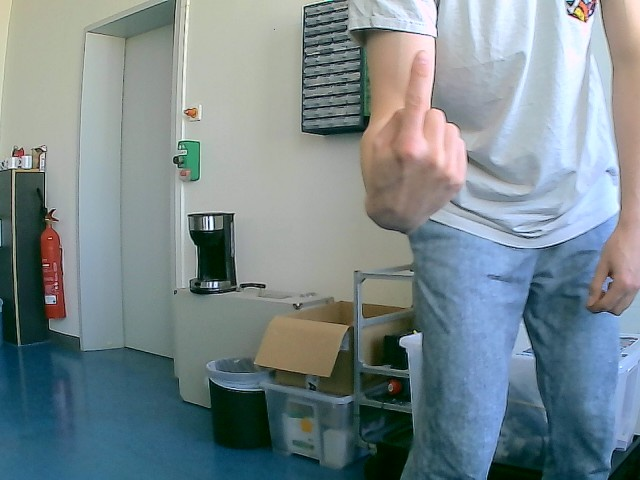no_gesture: (586, 220, 640, 321)
up: (358, 49, 469, 235)
